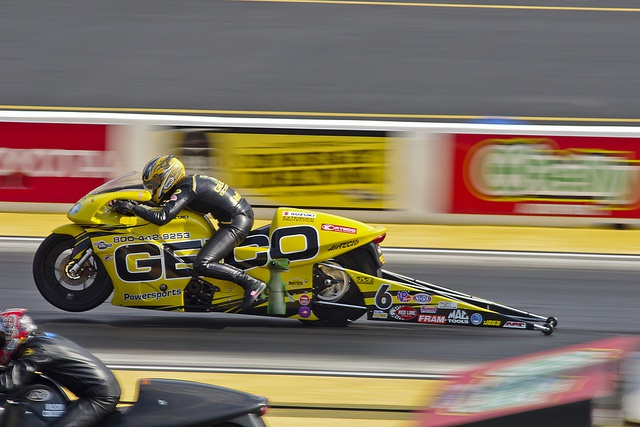non-vehicle: (30, 163, 563, 341), (0, 362, 270, 423)
